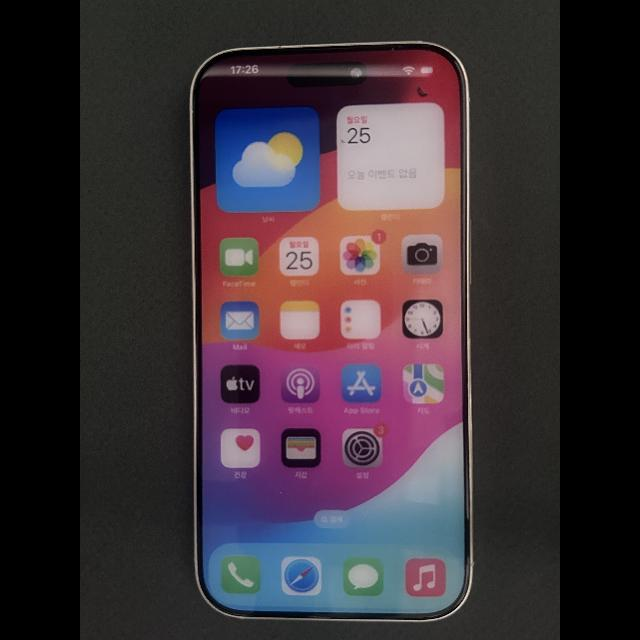lens: (349, 68, 363, 78)
phone: (188, 39, 474, 622)
